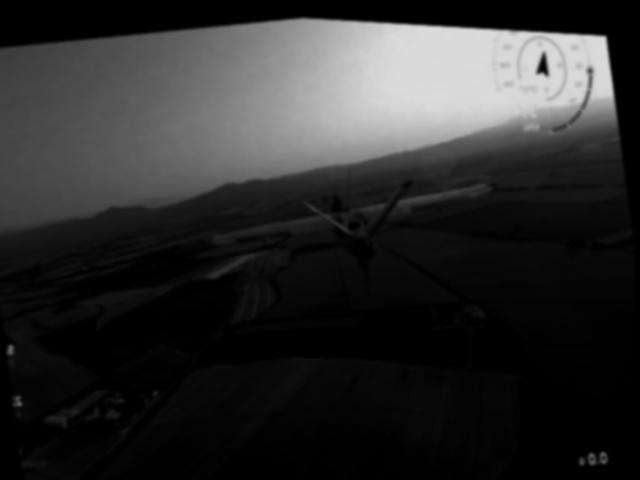hedef: (194, 132, 522, 315)
